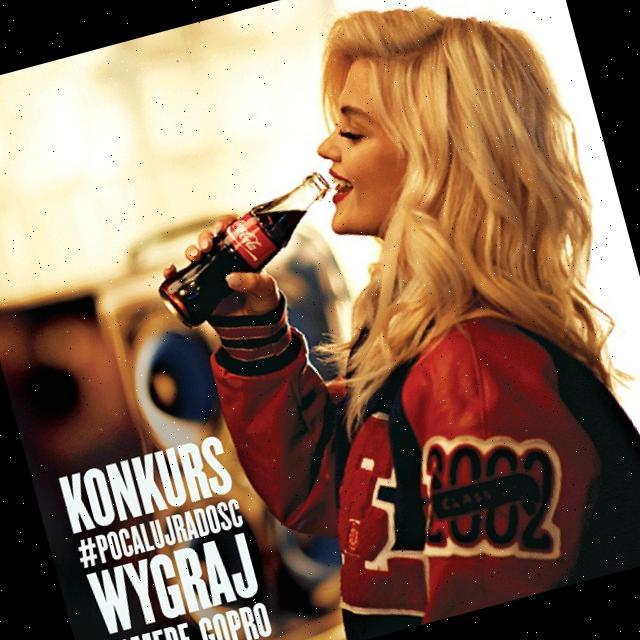coca-cola: (139, 168, 356, 336)
